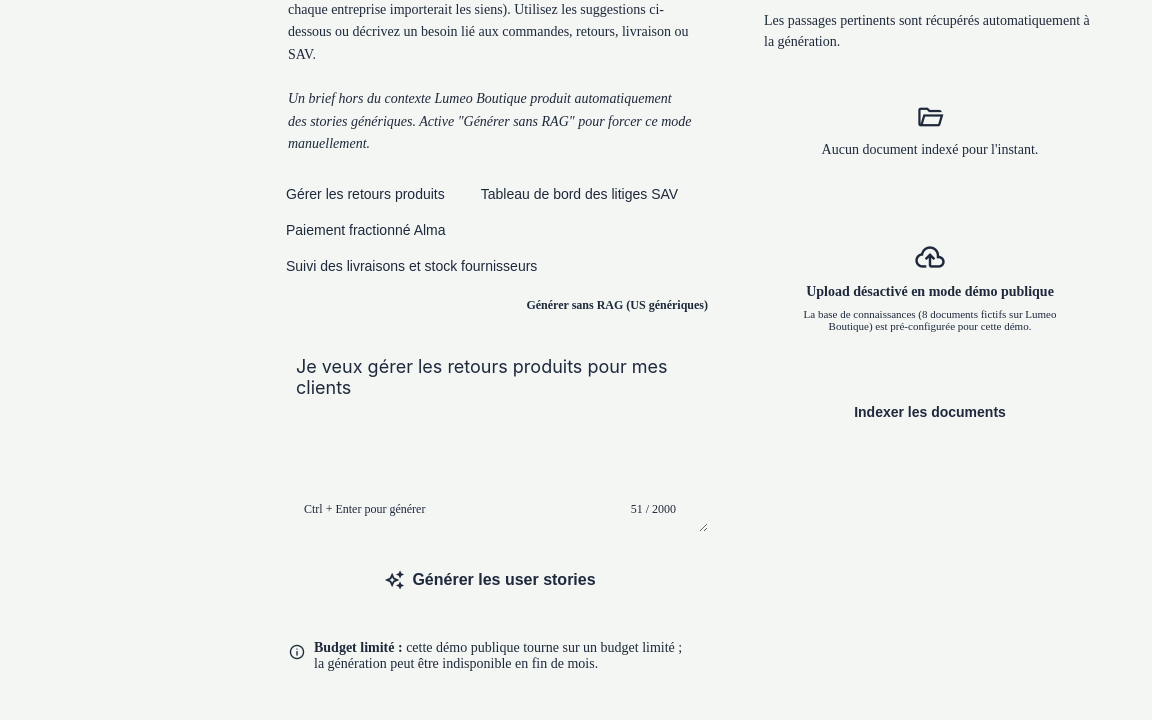
Scenario: Forge — panneau RAG pendant le streaming › le bouton de repli du panneau RAG a un nom accessible et aria-expanded qui suit l'état (pas "expand_more")
The image size is (1152, 720).
(page scrolled)
What coordinates should you click on to do the following:
click the button "Générer les user stories"
I would click on:
 (490, 580)
Its box is 272,552 -> 708,608.
(page scrolled)
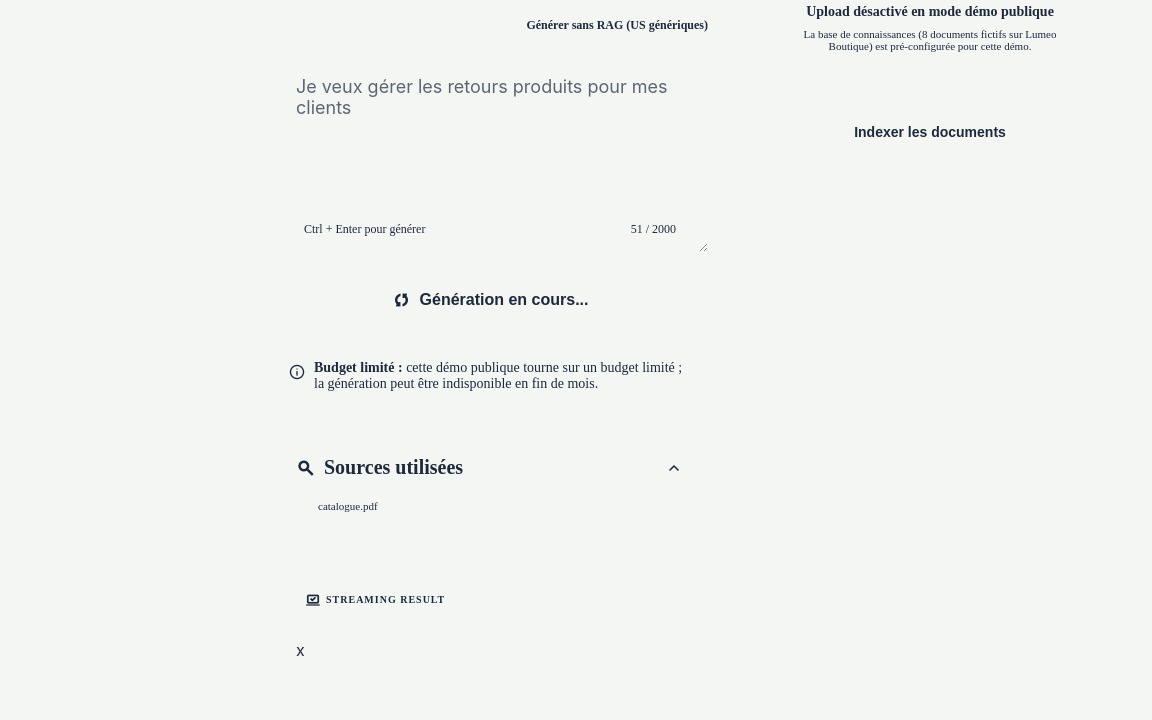
What coordinates should you click on to do the following:
click the button named "Masquer les sources"
I would click on:
 (674, 468)
Its box is 664,456 -> 684,480.
(page scrolled)
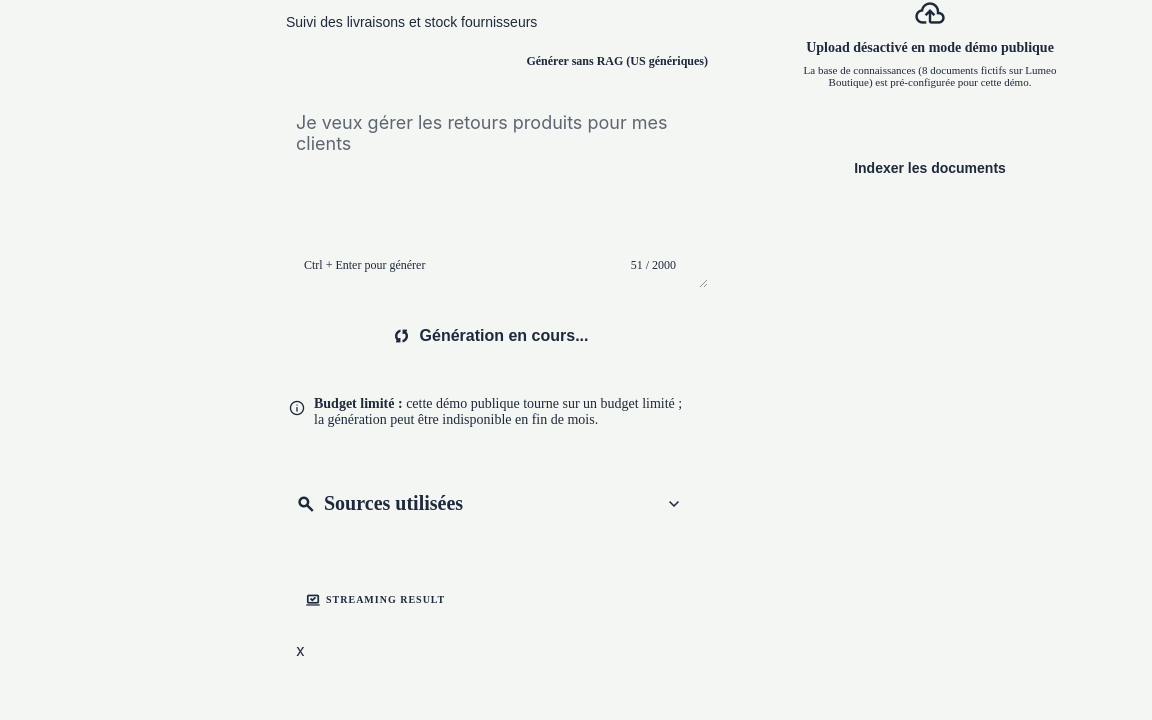
Now the button named "Afficher les sources" is collapsed, box 664,492 -> 684,516
